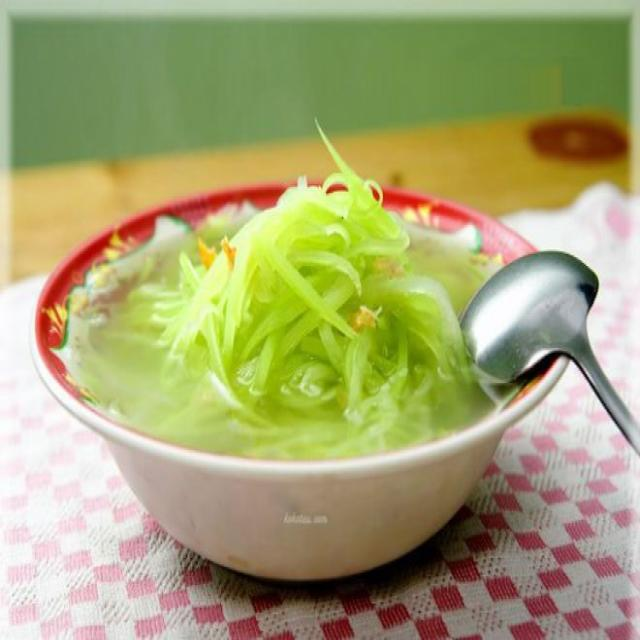canh bau: (69, 141, 492, 458)
